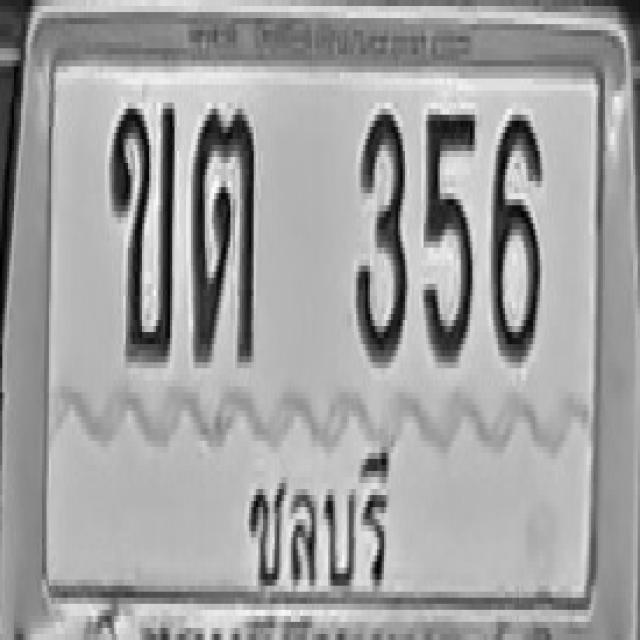11KhorKhai: (110, 100, 174, 359)
3: (355, 106, 406, 359)
30TorTao: (192, 103, 255, 362)
5: (422, 106, 476, 359)
6: (490, 106, 541, 359)
Chonburi: (238, 421, 402, 617)
